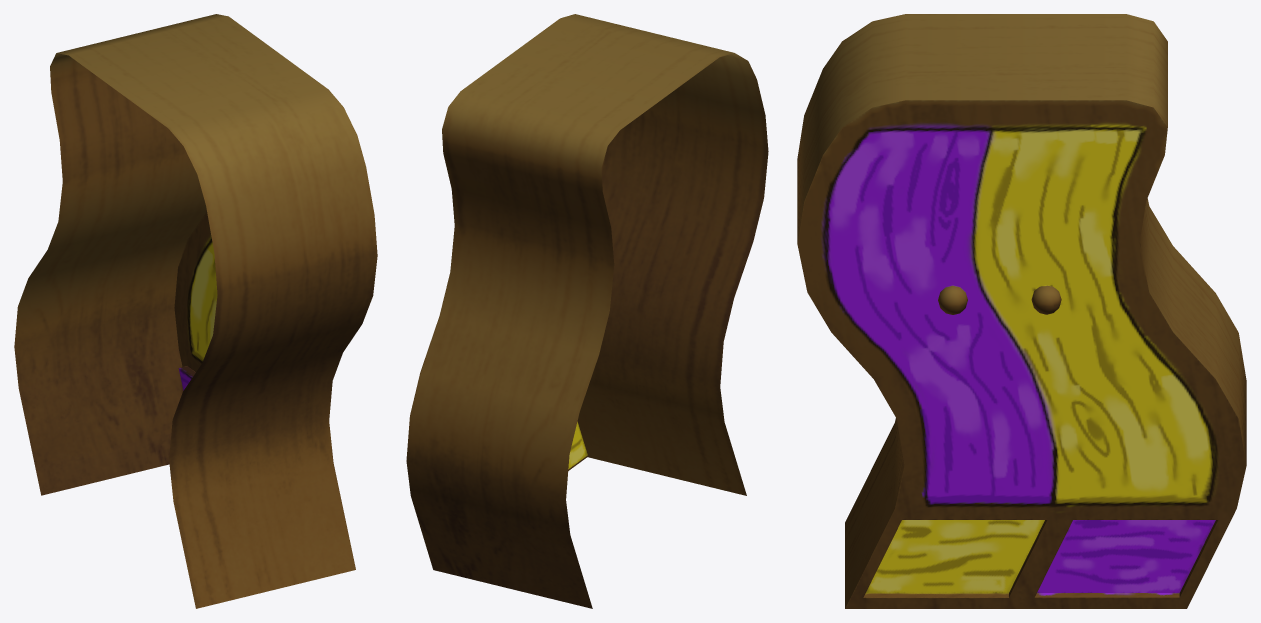
Rendered from PROP_009_Closet_A.fbx.
3 renders of one model, left to right at view 1: azimuth 30°, elevation 25°; view 2: azimuth 150°, elevation 25°; view 3: azimuth 270°, elevation 25°, orthographic. The views are drawn at different scales.
Visible parts, largest first — view 1: Armario.005; view 2: Armario.005; view 3: Armario.005.
Part boxes in pixels (x1,y1,x2,y2): Armario.005: (14, 14, 377, 608); Armario.005: (406, 14, 768, 608); Armario.005: (797, 14, 1246, 608).
Size of the model in its own units: 0.9976 by 2.5 by 2.
Materials: 1 (1 with a texture image).
